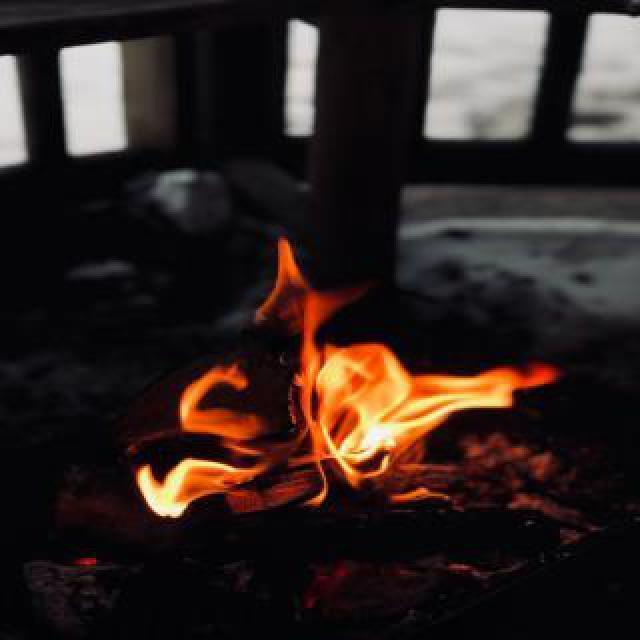Fire: (126, 237, 560, 521)
